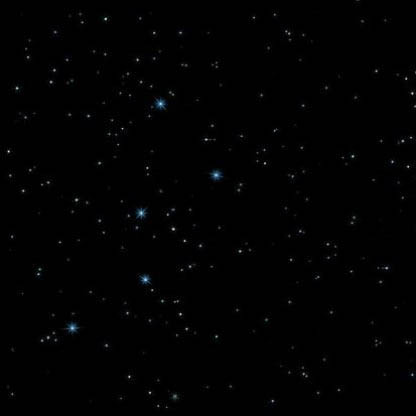Cassiopeia: (145, 84, 171, 116), (125, 197, 152, 227), (201, 159, 228, 188), (134, 264, 156, 289), (61, 314, 82, 340)
